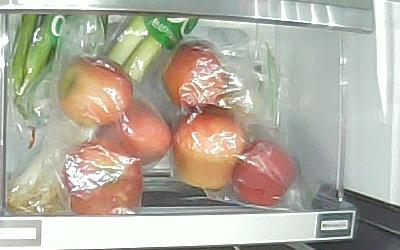apple_vinyl: (63, 139, 143, 213), (171, 111, 245, 191), (59, 58, 134, 126), (162, 43, 231, 108), (97, 102, 172, 161), (232, 139, 296, 205)
